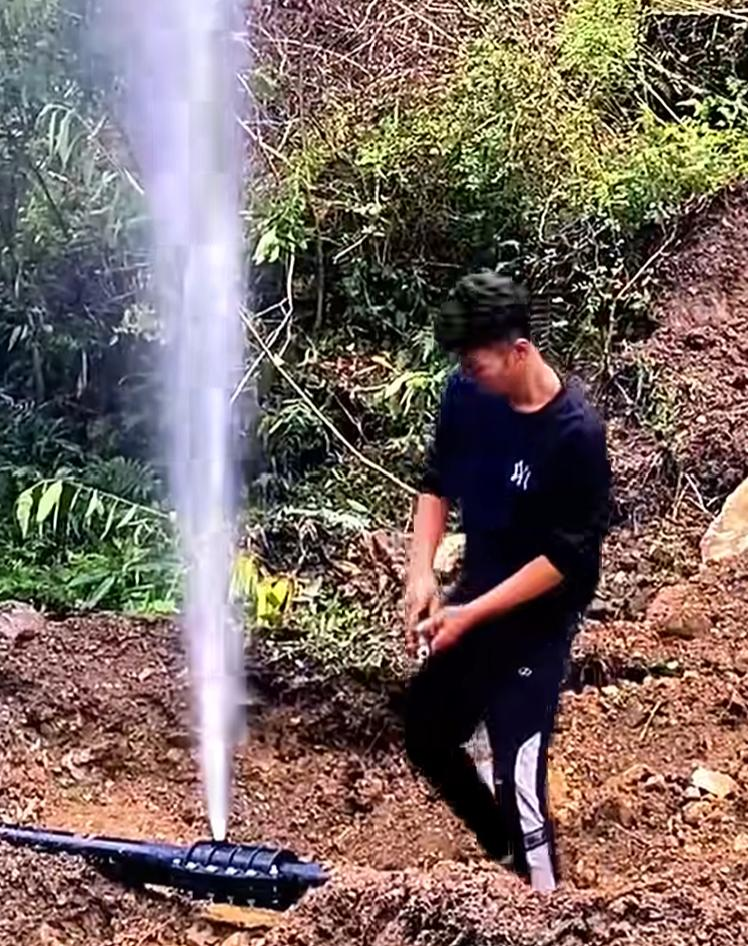pipe burst: (94, 0, 253, 857)
